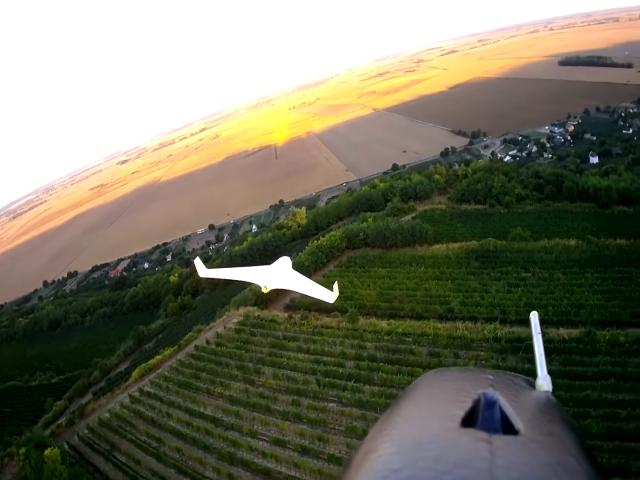plane: (194, 256, 338, 304)
